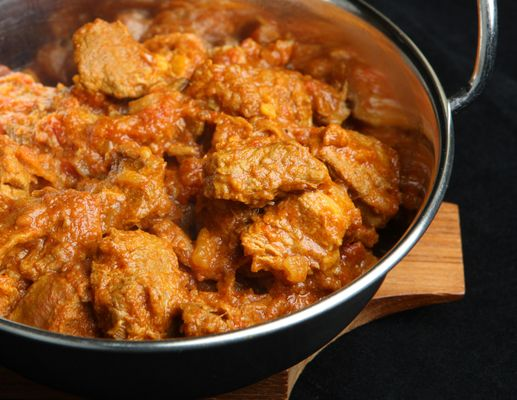sushi: (1, 4, 460, 394)
